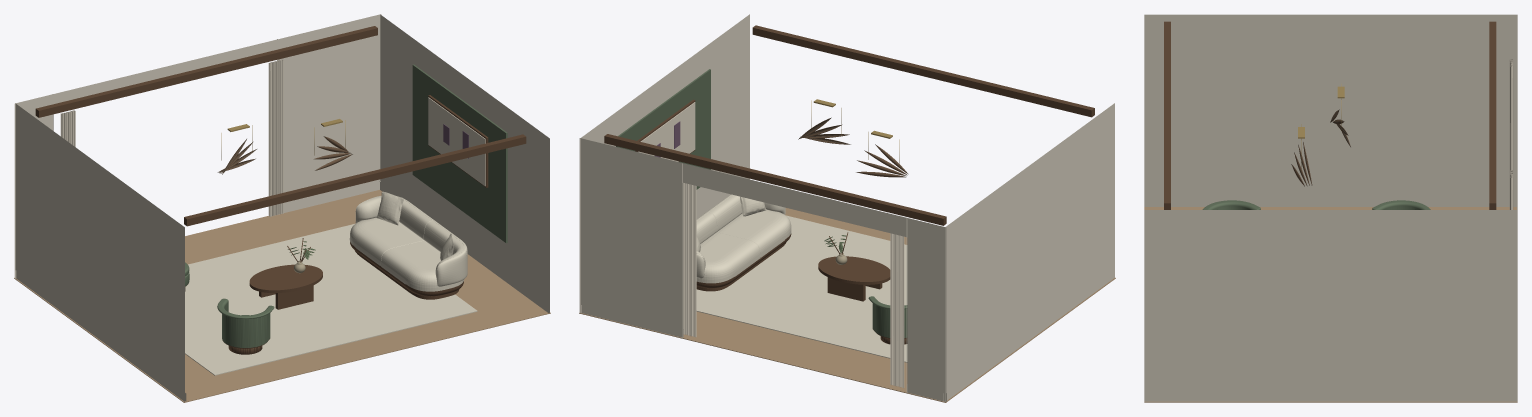
File: great-1.glb
3 renders of one model, left to right at view 1: azimuth 30°, elevation 25°; view 2: azimuth 150°, elevation 25°; view 3: azimuth 270°, elevation 25°, orthographic. The views are drawn at different scales.
Parts seen in each view (by area): view 1: DESIGN | great removable wall finish, DESIGN | Great room primary ground, DESIGN | great floor finish, DESIGN | Great room sofa facing conversation, DESIGN | Garden salon fabric wall field, DESIGN | Garden salon perimeter timber, DESIGN | Garden salon perimeter timber.001, DESIGN | Great room soft window edge.001, DESIGN | Textile artwork.002, DESIGN | Required Bellustar swivel chair one, DESIGN | Great room conversation table top, DESIGN | Great room conversation table trestle (+2 smaller); view 2: DESIGN | great removable wall finish, DESIGN | Great room primary ground, DESIGN | great floor finish, DESIGN | Great room sofa facing conversation, DESIGN | Garden salon perimeter timber.001, DESIGN | Garden salon perimeter timber, DESIGN | Garden salon fabric wall field, DESIGN | Great room soft window edge, DESIGN | Great room soft window edge.001, DESIGN | Great room conversation table top, DESIGN | Textile artwork.002, DESIGN | Required Bellustar swivel chair two (+3 smaller); view 3: DESIGN | great removable wall finish, DESIGN | Garden salon perimeter timber.001, DESIGN | great floor finish, DESIGN | Garden salon perimeter timber, DESIGN | Great room soft window edge, DESIGN | Required Bellustar swivel chair one, DESIGN | Required Bellustar swivel chair two, DESIGN | Required Flou pendant 2.
Part boxes in pixels (x1=…): DESIGN | great removable wall finish: x1=14, y1=14, x2=549, y2=401; DESIGN | Great room primary ground: x1=185, y1=224, x2=477, y2=375; DESIGN | great floor finish: x1=14, y1=190, x2=550, y2=402; DESIGN | Great room sofa facing conversation: x1=349, y1=191, x2=467, y2=299; DESIGN | Garden salon fabric wall field: x1=412, y1=64, x2=507, y2=243; DESIGN | Garden salon perimeter timber: x1=184, y1=134, x2=526, y2=226; DESIGN | Garden salon perimeter timber.001: x1=35, y1=26, x2=377, y2=117; DESIGN | Great room soft window edge.001: x1=268, y1=59, x2=283, y2=216; DESIGN | Textile artwork.002: x1=428, y1=97, x2=485, y2=186; DESIGN | Required Bellustar swivel chair one: x1=217, y1=298, x2=274, y2=354; DESIGN | Great room conversation table top: x1=249, y1=264, x2=322, y2=292; DESIGN | Great room conversation table trestle: x1=275, y1=285, x2=313, y2=309; DESIGN | great removable wall finish: x1=579, y1=14, x2=1114, y2=401; DESIGN | Great room primary ground: x1=696, y1=215, x2=907, y2=362; DESIGN | great floor finish: x1=579, y1=208, x2=1115, y2=402; DESIGN | Great room sofa facing conversation: x1=696, y1=194, x2=791, y2=291; DESIGN | Garden salon perimeter timber.001: x1=604, y1=134, x2=946, y2=225; DESIGN | Garden salon perimeter timber: x1=752, y1=25, x2=1094, y2=117; DESIGN | Garden salon fabric wall field: x1=616, y1=69, x2=710, y2=189; DESIGN | Great room soft window edge: x1=890, y1=233, x2=904, y2=387; DESIGN | Great room soft window edge.001: x1=683, y1=182, x2=696, y2=337; DESIGN | Great room conversation table top: x1=818, y1=256, x2=890, y2=284; DESIGN | Textile artwork.002: x1=638, y1=102, x2=695, y2=161; DESIGN | Required Bellustar swivel chair two: x1=868, y1=296, x2=907, y2=344; DESIGN | great removable wall finish: x1=1144, y1=14, x2=1517, y2=401; DESIGN | Garden salon perimeter timber.001: x1=1489, y1=21, x2=1496, y2=209; DESIGN | great floor finish: x1=1144, y1=207, x2=1517, y2=402; DESIGN | Garden salon perimeter timber: x1=1164, y1=21, x2=1170, y2=209; DESIGN | Great room soft window edge: x1=1509, y1=59, x2=1513, y2=170; DESIGN | Required Bellustar swivel chair one: x1=1202, y1=200, x2=1260, y2=209; DESIGN | Required Bellustar swivel chair two: x1=1372, y1=200, x2=1430, y2=209; DESIGN | Required Flou pendant 2: x1=1291, y1=142, x2=1312, y2=186.
Bounding box in the file's own units: 6 × 2.74 × 4.82.
